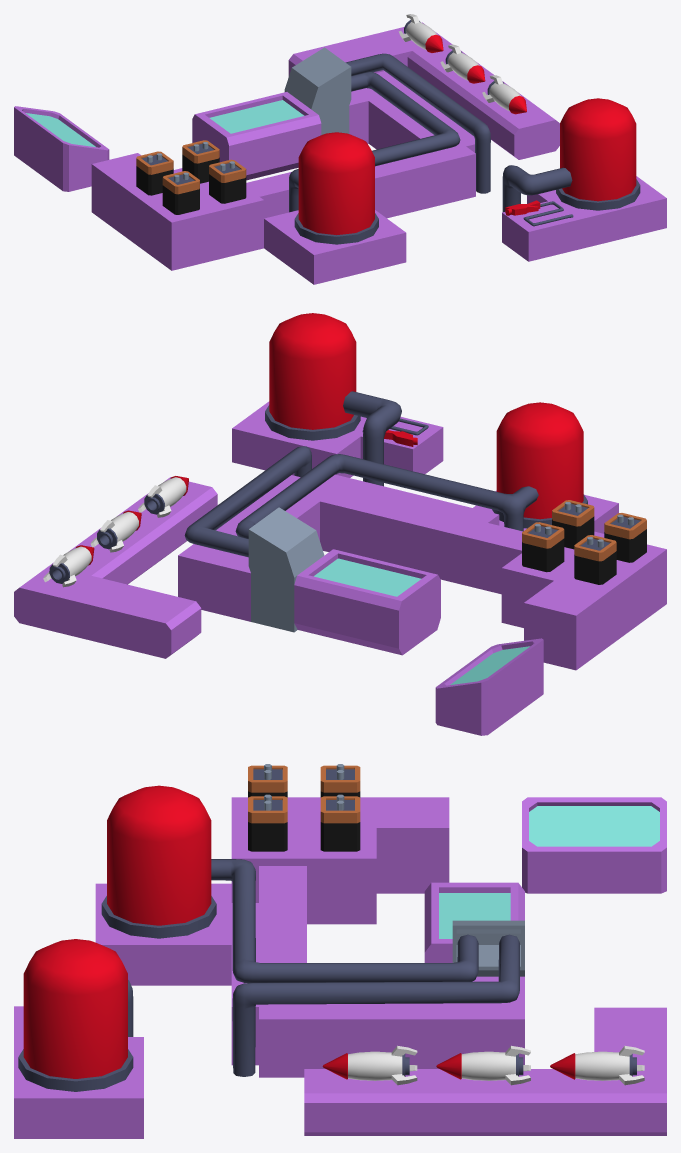
The model's file is Platform_GamerFuel.fbx.
3 views of the same model, one above another, from view 1: azimuth 30°, elevation 25°; view 2: azimuth 150°, elevation 25°; view 3: azimuth 270°, elevation 25° (orthographic). The views are drawn at different scales.
Parts seen in each view (by area): view 1: Cube.026, Cube.020, Cylinder.044, Cube.017, Cylinder, Cube.011, Cube.014, Cube.018, Cube.028, Cube.021, Cube.023, Cube.024 (+5 smaller); view 2: Cube.026, Cube.017, Cube.011, Cylinder, Cylinder.044, Cube.028, Cube.020, Cube.021, Cube.014, Cube.023, Cube.024, Cube.019 (+4 smaller); view 3: Cube.017, Cube.026, Cylinder, Cylinder.044, Cube.028, Cube.020, Cube.025, Cube.024, Cube.014, Cube.018, Cylinder.043, Cube.021 (+3 smaller).
Part boxes in pixels (box(x1,y1,x2,y2)): Cube.026: box(246, 71, 475, 218); Cube.020: box(118, 168, 263, 270); Cylinder.044: box(294, 132, 378, 244); Cube.017: box(288, 22, 559, 159); Cylinder: box(556, 98, 640, 210); Cube.011: box(192, 92, 321, 180); Cube.014: box(502, 176, 666, 261); Cube.018: box(264, 210, 406, 284); Cube.028: box(14, 106, 109, 191); Cube.021: box(136, 140, 246, 214); Cube.023: box(284, 47, 351, 134); Cube.024: box(289, 72, 460, 212); Cube.026: box(178, 474, 522, 621); Cube.017: box(14, 477, 217, 658); Cube.011: box(294, 549, 440, 655); Cylinder: box(265, 313, 360, 440); Cylinder.044: box(492, 402, 587, 528); Cube.028: box(435, 638, 543, 735); Cube.020: box(501, 531, 666, 647); Cube.021: box(522, 500, 646, 584); Cube.014: box(232, 401, 443, 477); Cube.023: box(248, 507, 324, 632); Cube.024: box(235, 454, 538, 538); Cube.019: box(524, 581, 606, 670); Cube.017: box(304, 1007, 666, 1135); Cube.026: box(231, 866, 524, 1077); Cylinder: box(18, 939, 133, 1091); Cylinder.044: box(101, 785, 216, 938); Cube.028: box(522, 797, 666, 893); Cube.020: box(231, 797, 376, 924); Cube.025: box(232, 934, 519, 1076); Cube.024: box(211, 859, 478, 983); Cube.014: box(14, 1006, 143, 1138); Cube.018: box(95, 883, 231, 985); Cylinder.043: box(322, 1045, 644, 1085); Cube.021: box(248, 764, 360, 851).
Bounding box in the file's own units: 900 × 263 × 900.
